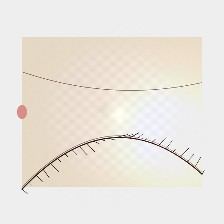pinguecula_lesion: (20, 94, 58, 126)
